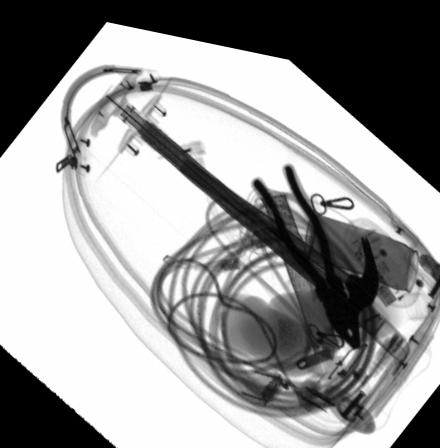Hammer: (178, 149, 379, 306)
Pliers: (249, 150, 360, 336)
